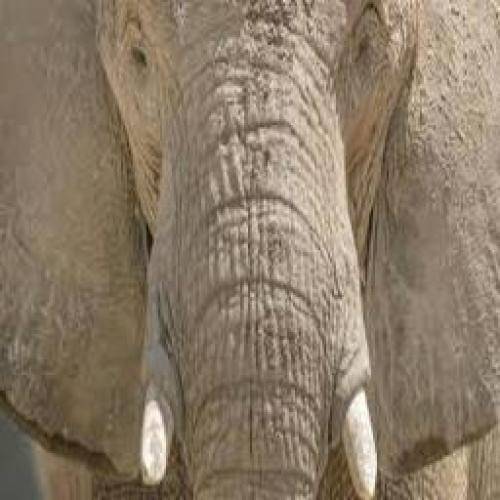african_elephant-endangered: (22, 4, 453, 500)
